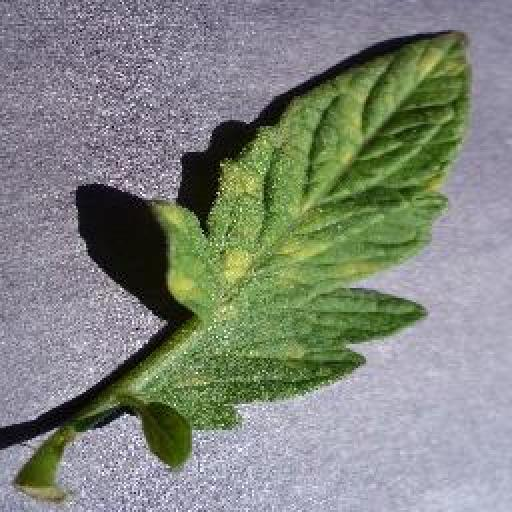disease_tomato: (153, 30, 472, 430)
